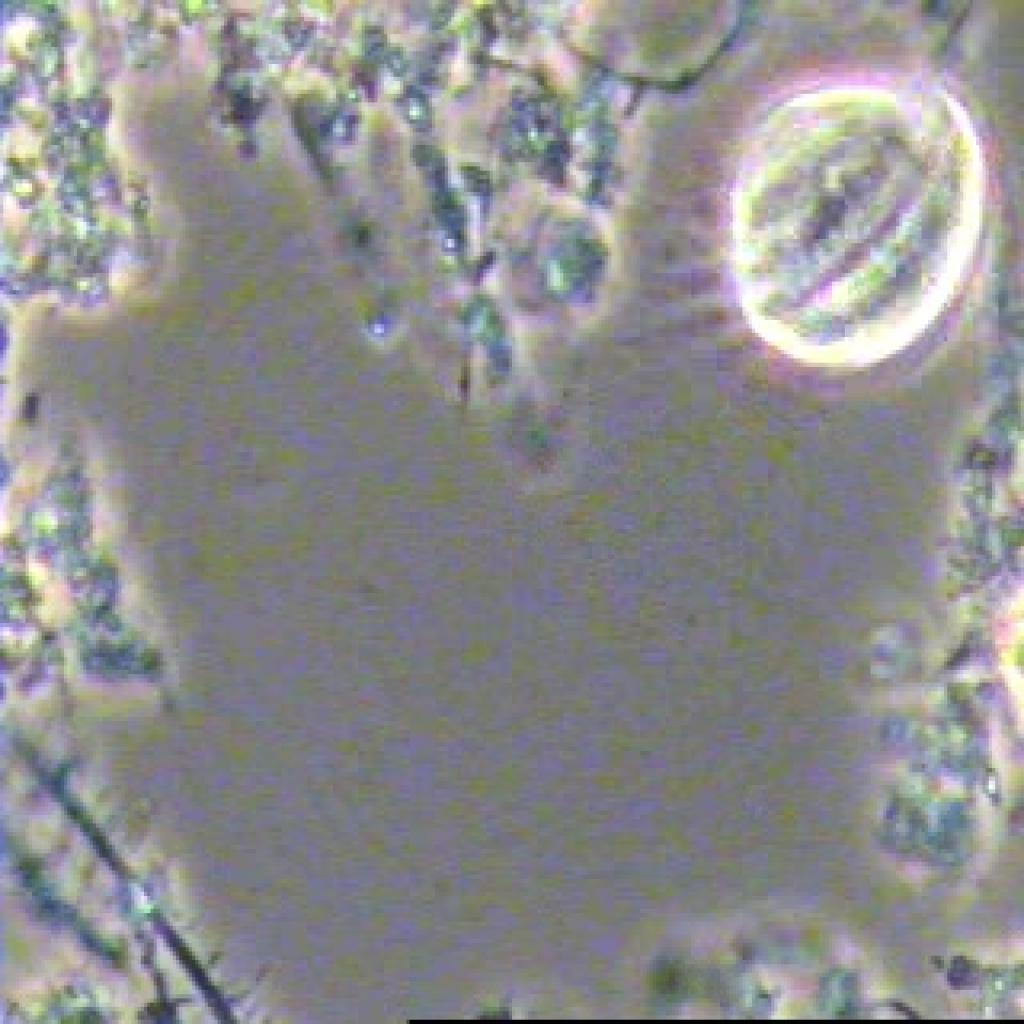Aspidisca: (648, 58, 984, 412)
